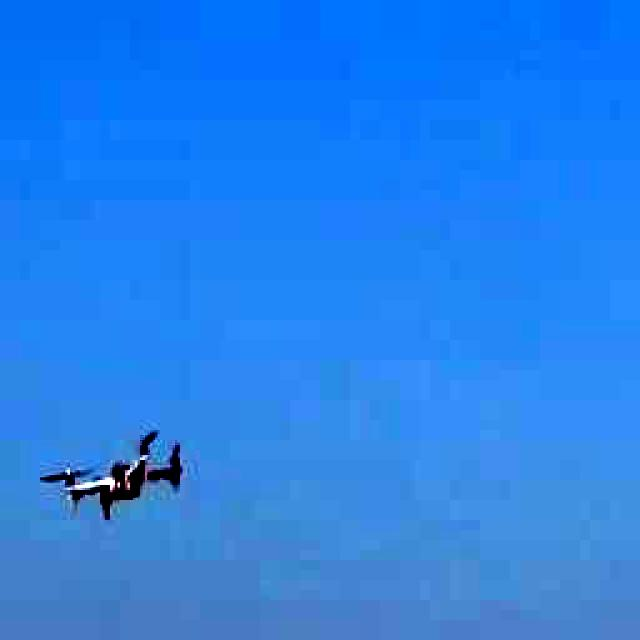bird: (36, 388, 226, 555)
